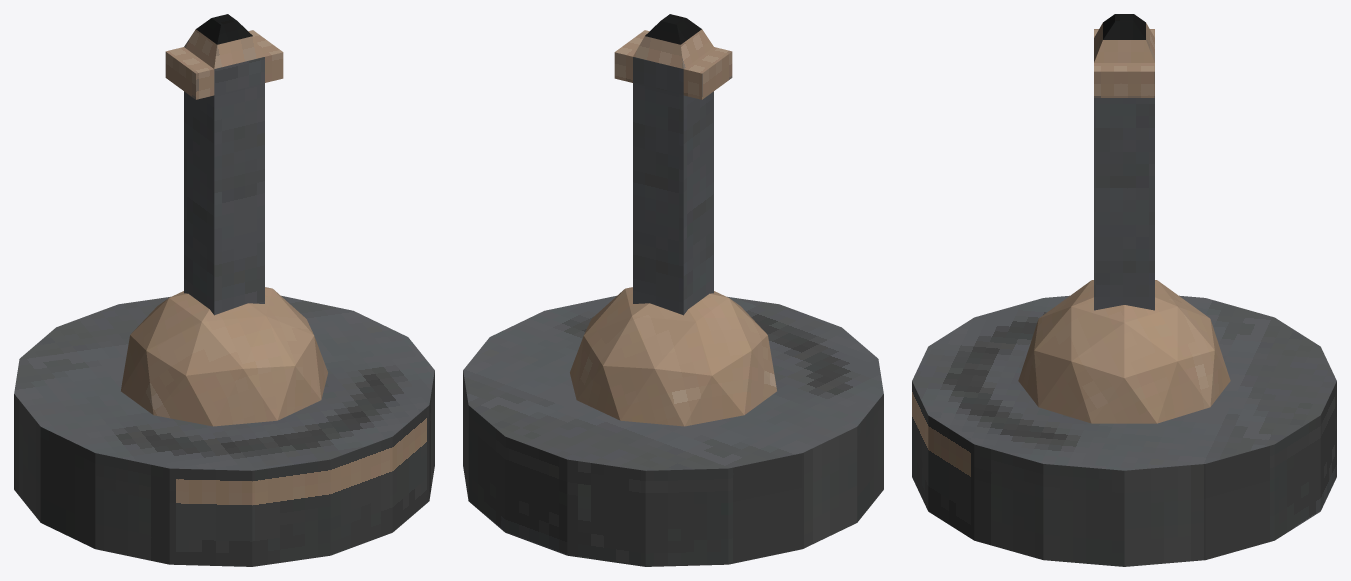
File: combat-roomba.glb
The picture shows the model from 3 angles, left to right: view 1: azimuth 30°, elevation 25°; view 2: azimuth 150°, elevation 25°; view 3: azimuth 270°, elevation 25°; orthographic projection.
Visible parts, largest first — view 1: Cylinder; view 2: Cylinder; view 3: Cylinder.
Boxes of the visible parts, left/top/right/bottom form: Cylinder: left=14, top=14, right=434, bottom=566; Cylinder: left=463, top=14, right=883, bottom=566; Cylinder: left=912, top=14, right=1336, bottom=566.
Size of the model in its own units: 2 by 2.39 by 2.
1 material, 1 textured.
